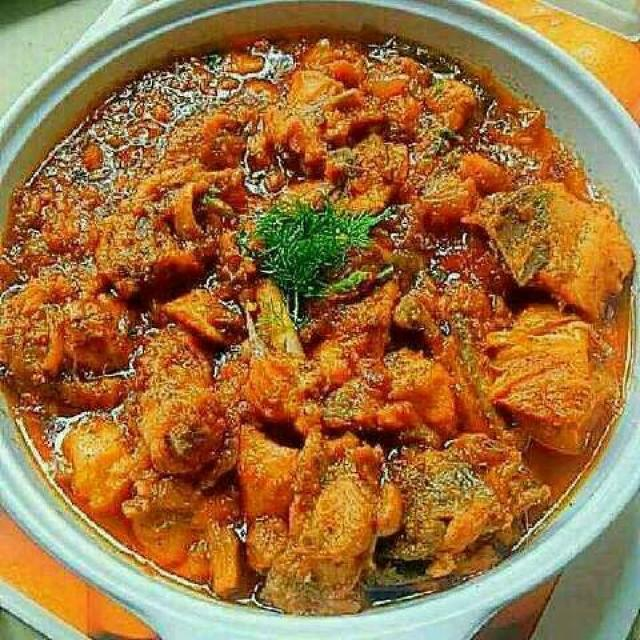chicken: (0, 12, 640, 632)
